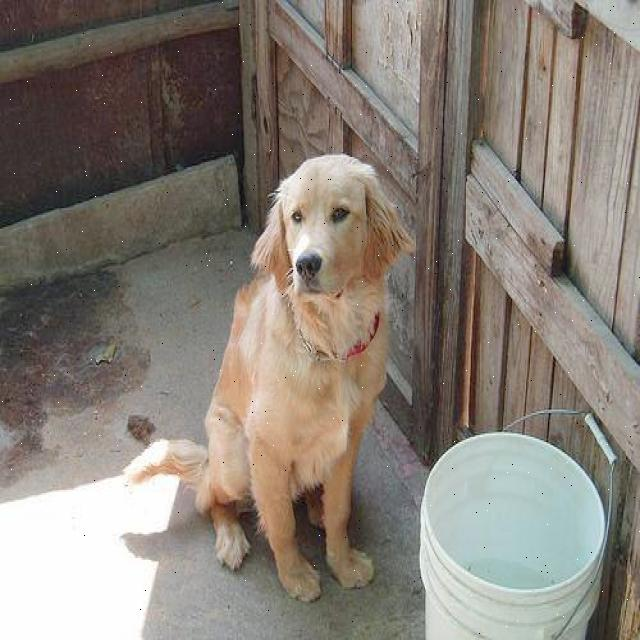golden: (231, 154, 420, 369)
